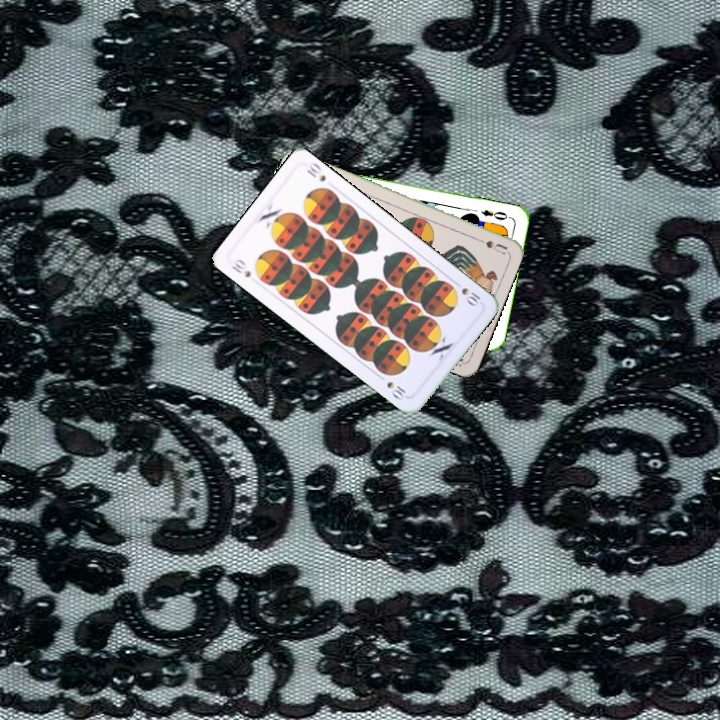EO: (477, 205, 514, 223)
S10: (450, 277, 483, 309), (228, 255, 254, 280)
SU: (469, 233, 509, 257)
